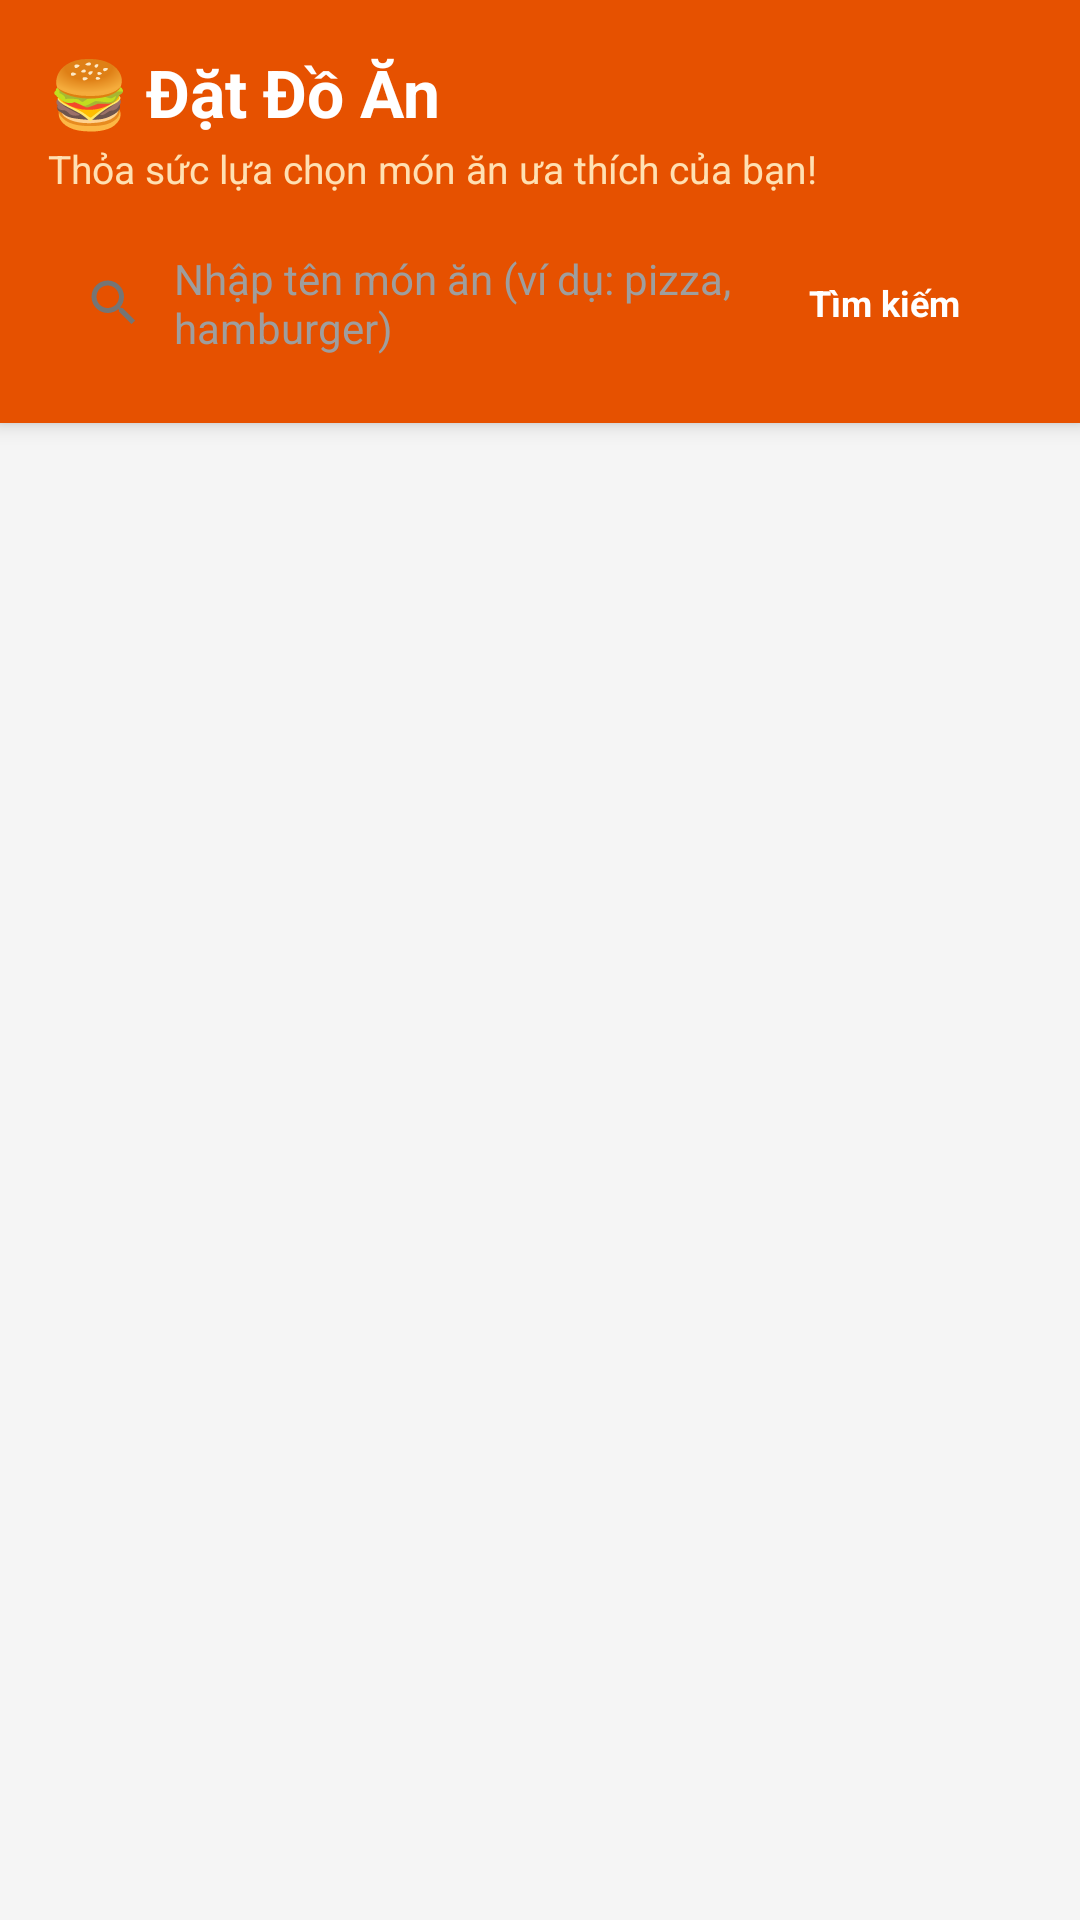

Icon click points for this 1080x1920 phone screenshot, format (x,y):
Tìm kiếm: (113,302)
